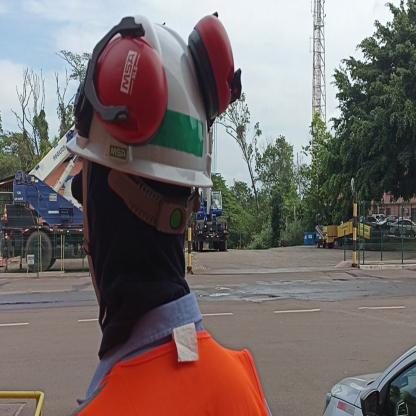Balaclava: (85, 149, 195, 343)
Capacete: (76, 12, 220, 186)
